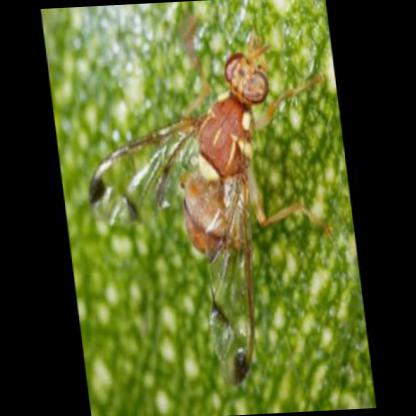fruit fly: (84, 25, 326, 386)
